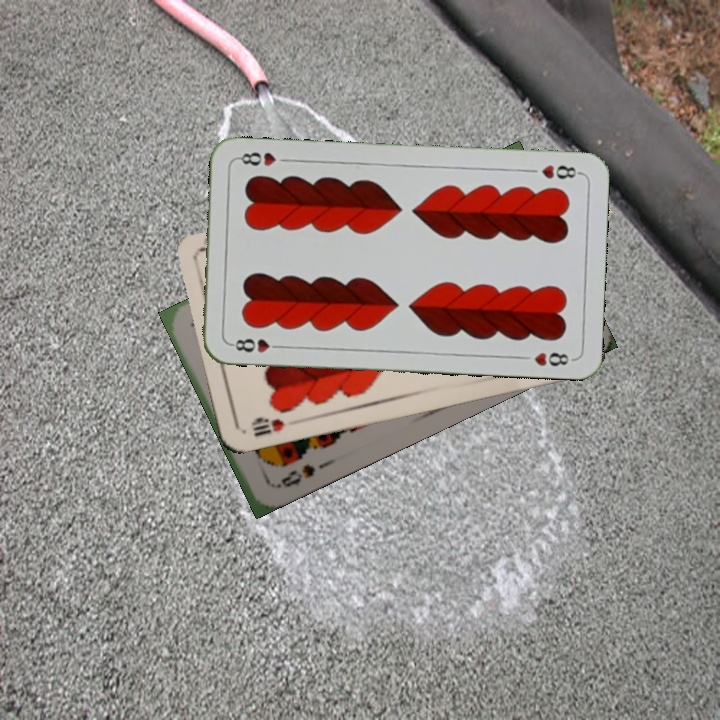H10: (247, 414, 287, 439)
H8: (227, 334, 286, 355), (537, 161, 583, 182)
S8: (265, 460, 318, 492)
